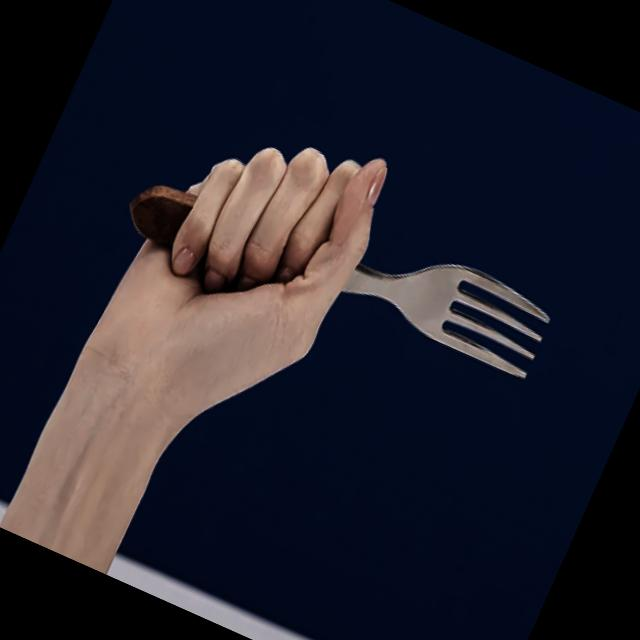fork: (118, 125, 560, 408), (585, 262, 586, 264)
